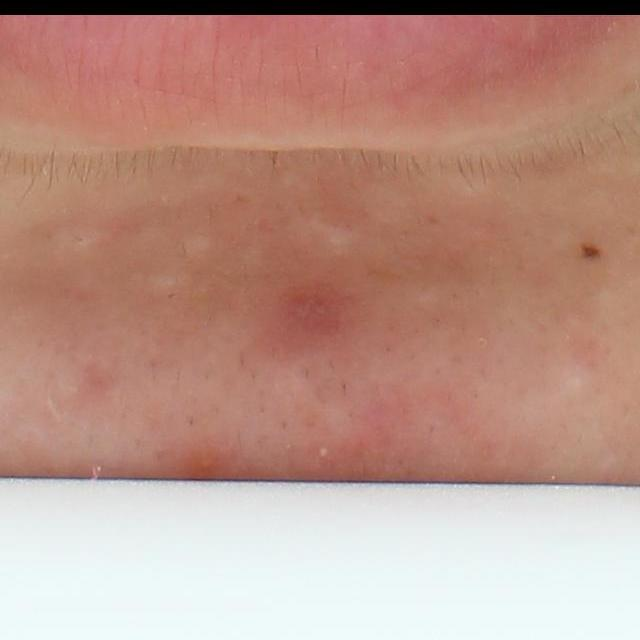hypertrophic_scar: (38, 213, 110, 254), (304, 213, 359, 257), (132, 266, 195, 293), (167, 230, 219, 262)
nevus: (582, 240, 605, 261)
